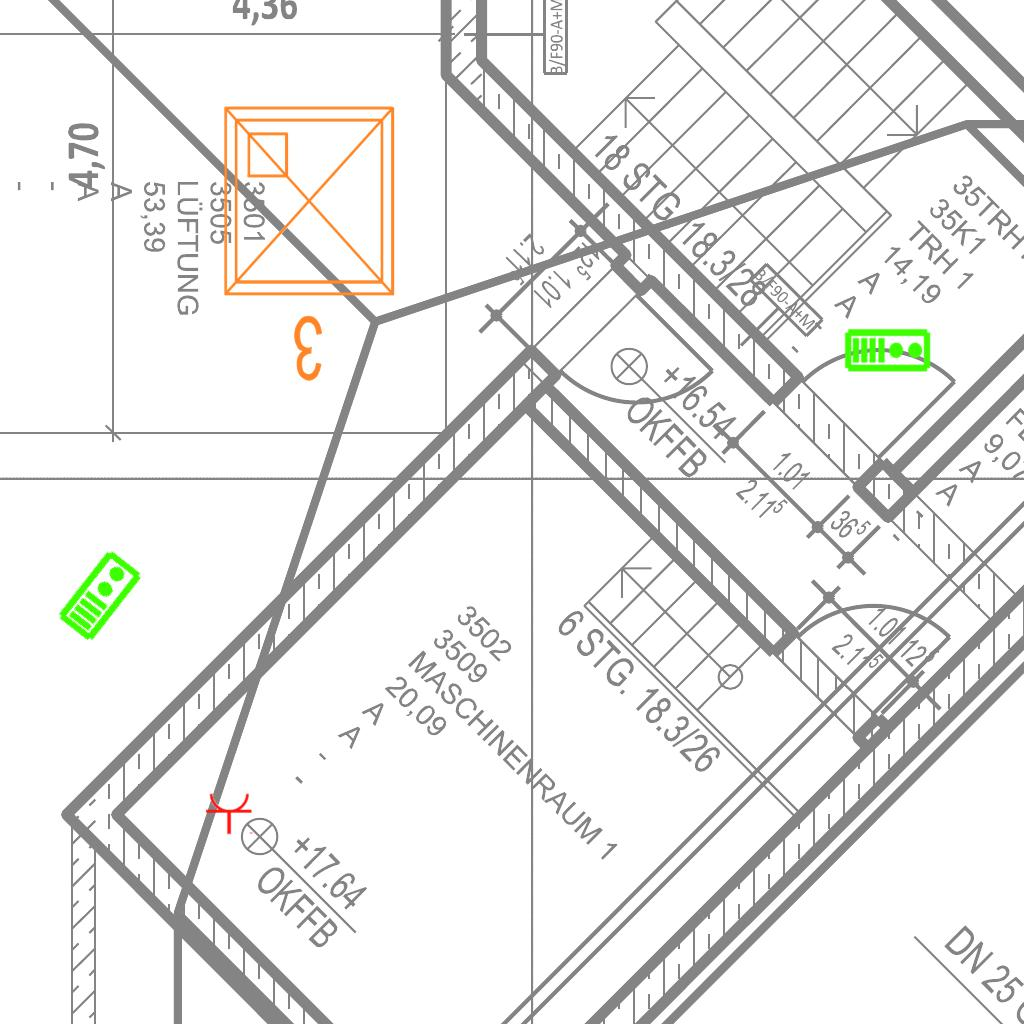Einbaudownlights_LED_Konferenzraeume: (209, 92, 417, 392)
Gegensprechanlage_mit_Video: (53, 545, 146, 645), (844, 326, 932, 373)
Schukosteckdose_einfach: (205, 792, 255, 835)
